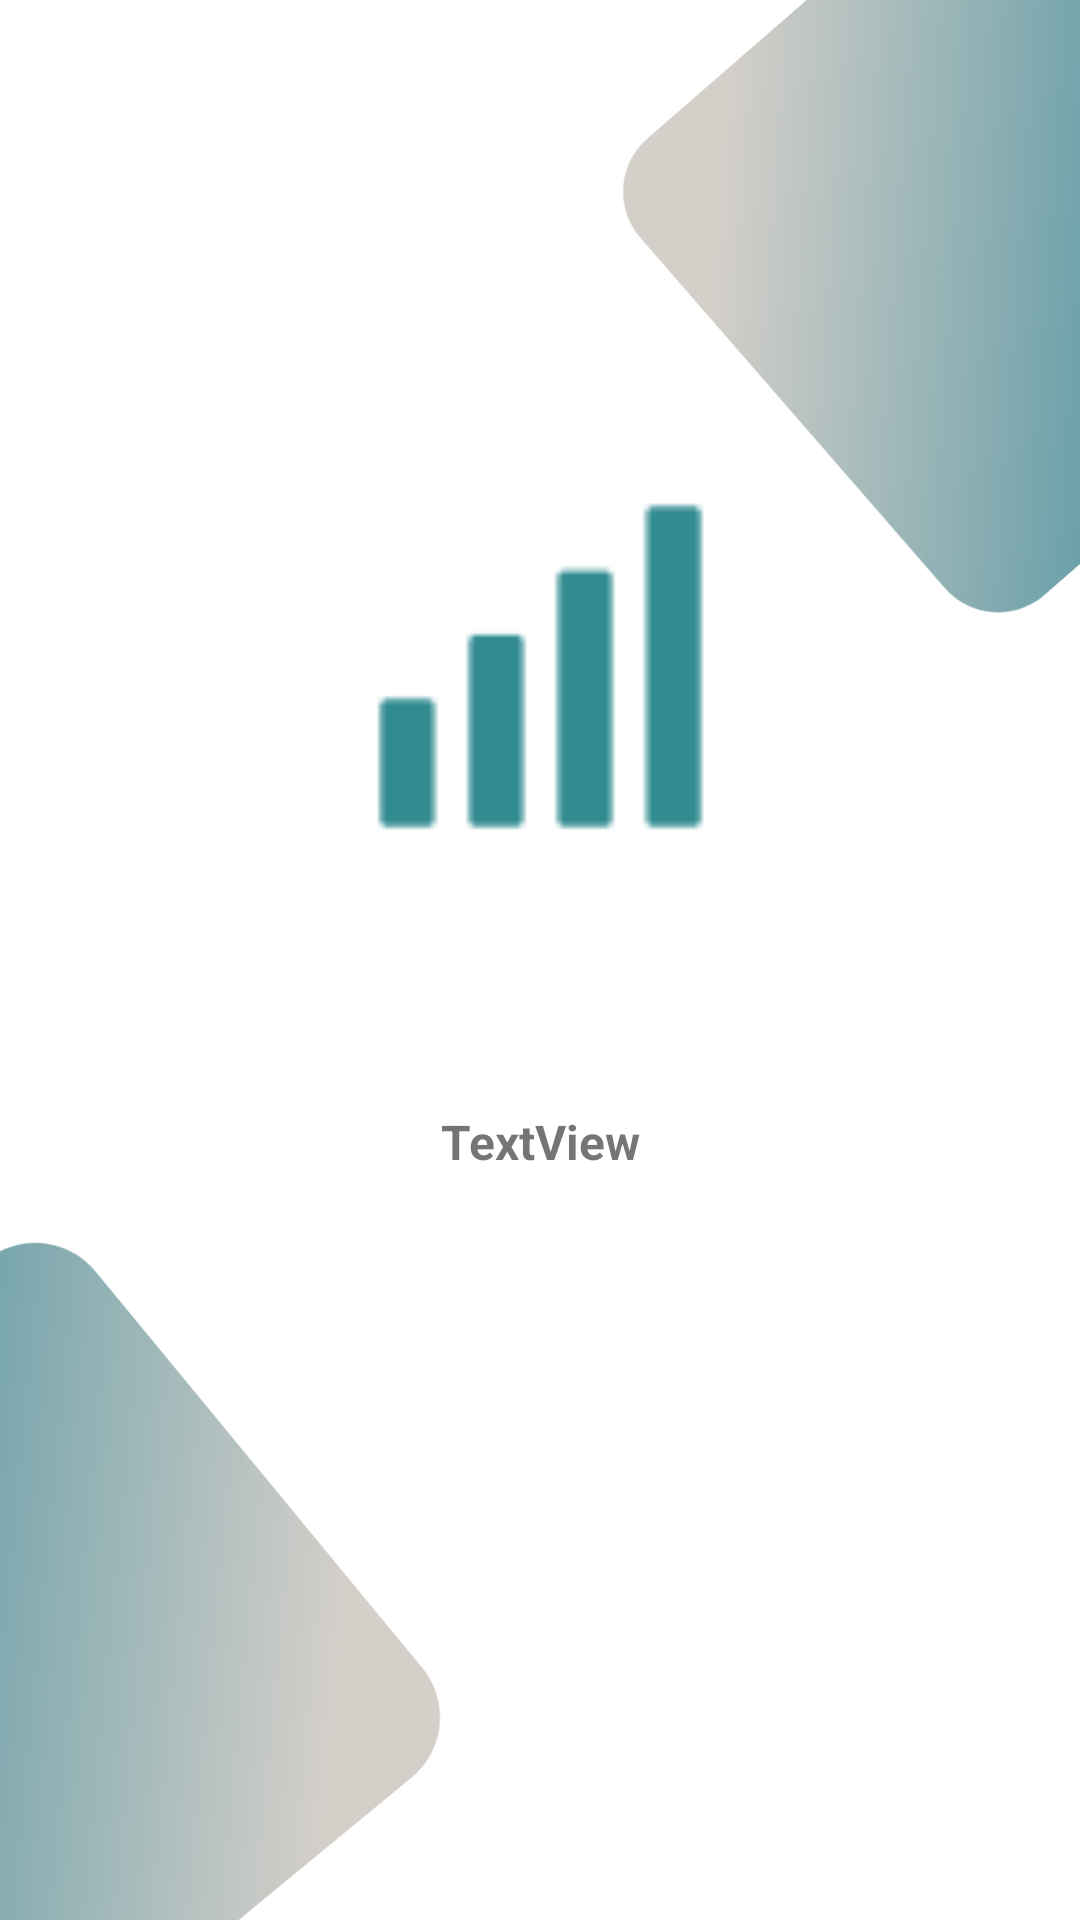

Named icons in this screenshot (1080*1920) and their centers, [x,y]:
signal: [540,666]
